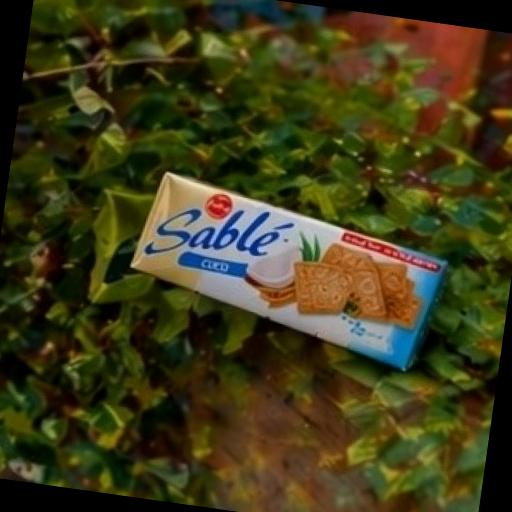sabl: (74, 106, 495, 437)
